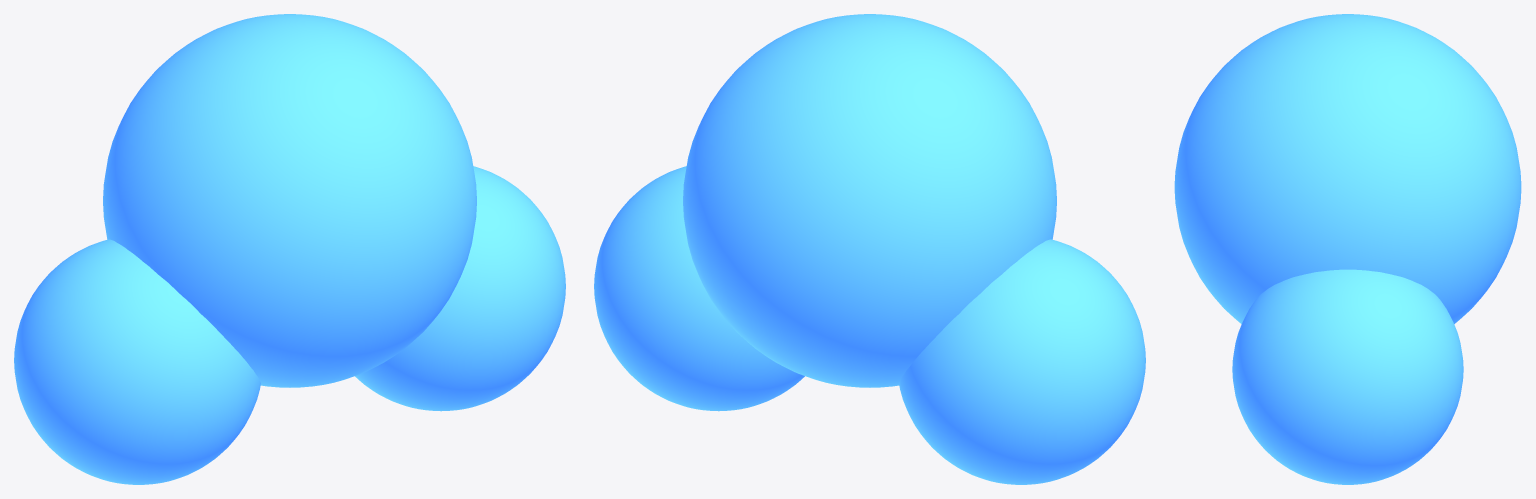
3 views of the same model, side by side, from view 1: azimuth 30°, elevation 25°; view 2: azimuth 150°, elevation 25°; view 3: azimuth 270°, elevation 25° (orthographic). The views are drawn at different scales.
Visible parts, largest first — view 1: count (×3); view 2: count (×3); view 3: count (×2).
Part boxes in pixels (x1,y1,x2,y2): count (×3): [14, 14, 565, 484]; count (×3): [594, 14, 1145, 484]; count (×2): [1174, 14, 1521, 484].
Bounding box in the file's own units: 0.2304 × 0.172 × 0.144.
